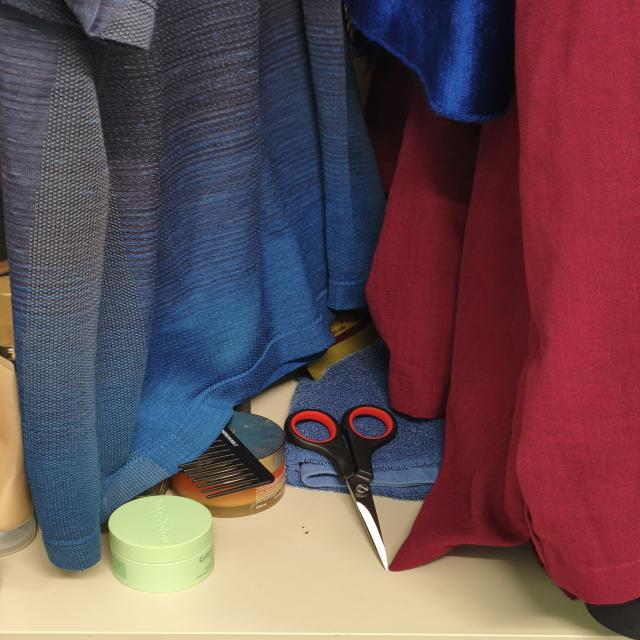scissor: (284, 405, 398, 570)
